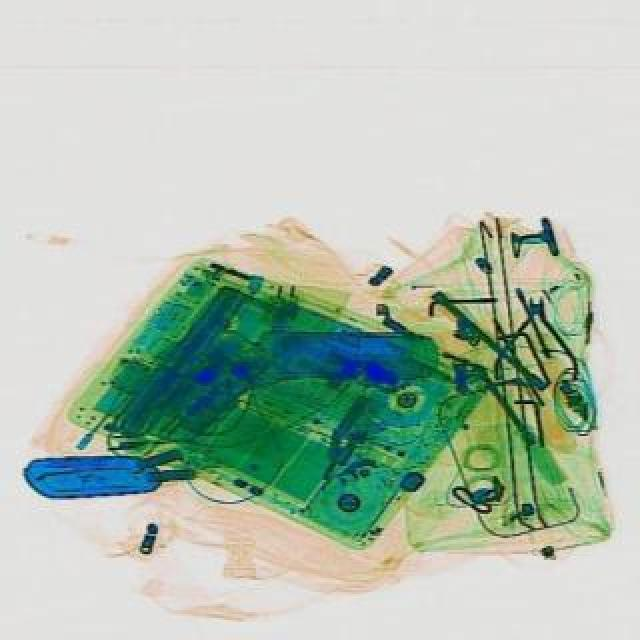wrench: (490, 292, 578, 384)
